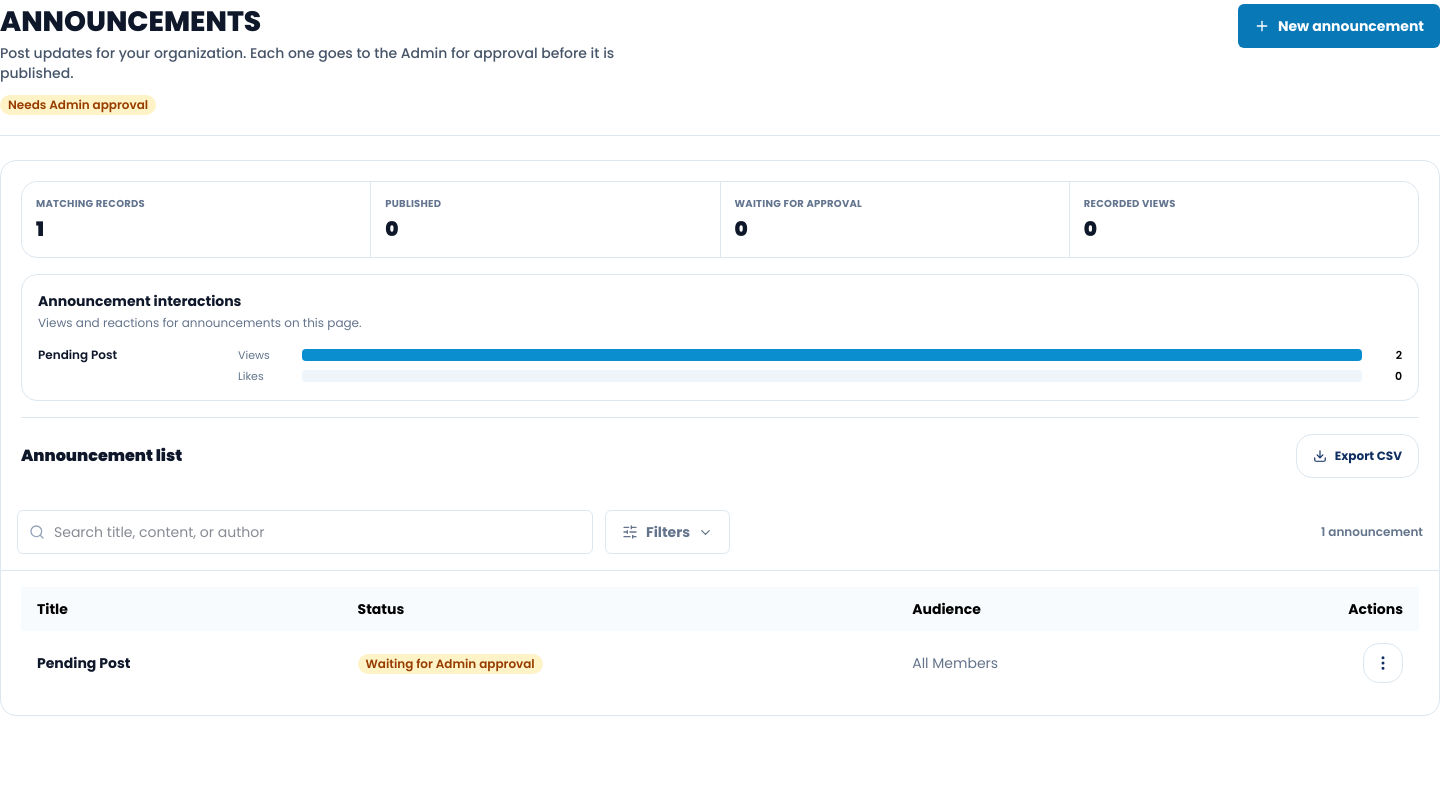
it: ManageAnnouncementsPage › approval stage › tells an officer a pending announcement waits for the Admin, with no button
Click the button "Pending Post".
click(84, 663)  # box [37,643,130,683]
(page scrolled)
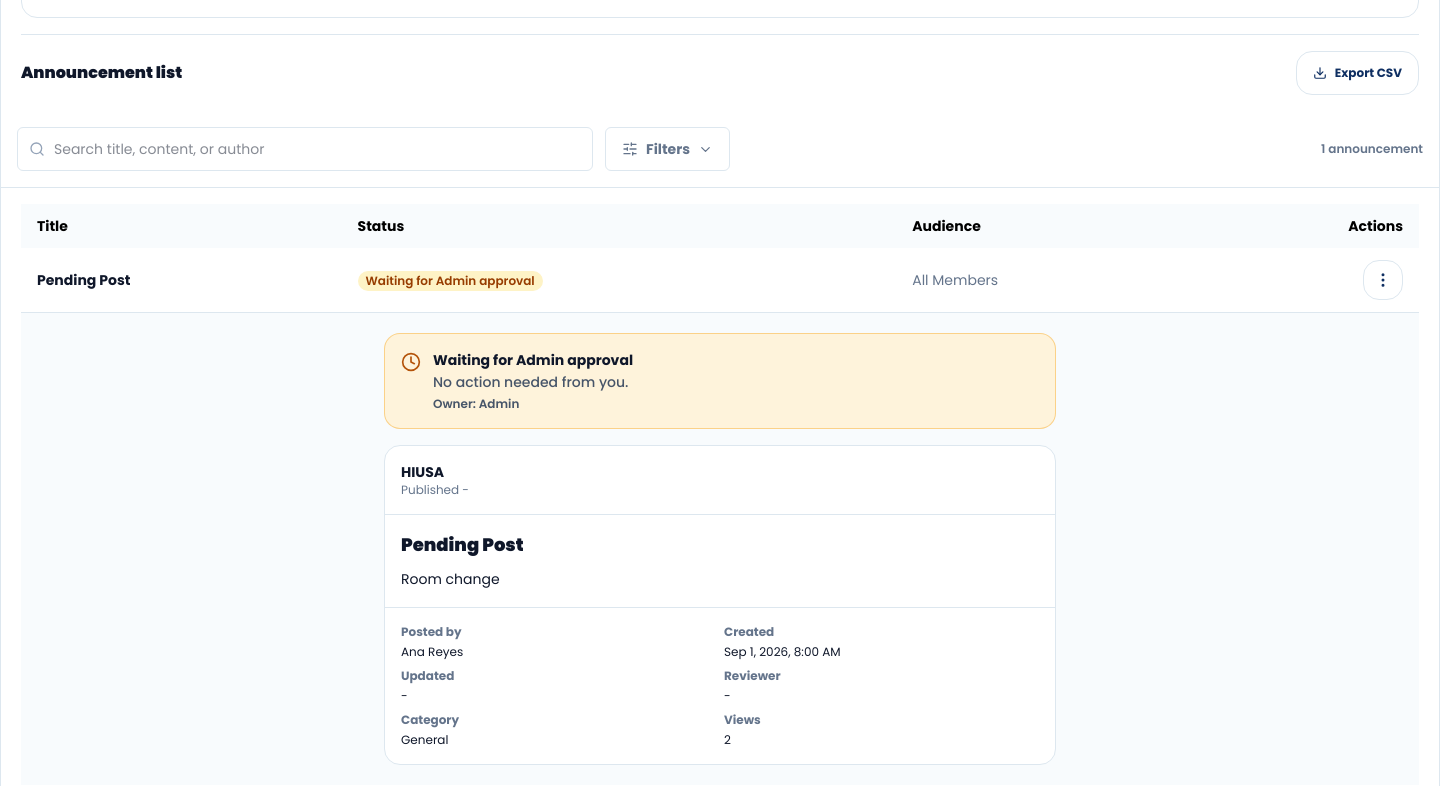
Now the message shows "Waiting for Admin approval", box [433,350,633,370]
Now the message shows "Owner: Admin", box [384,333,1056,429]
